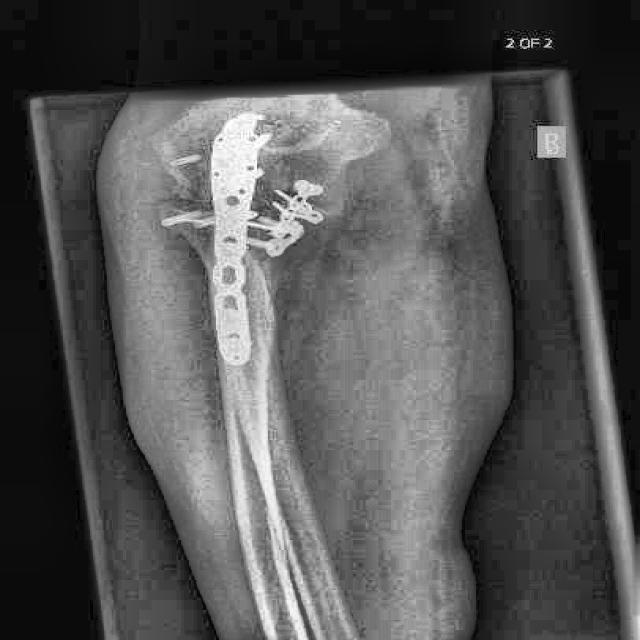elbow positive: (141, 166, 216, 219)
